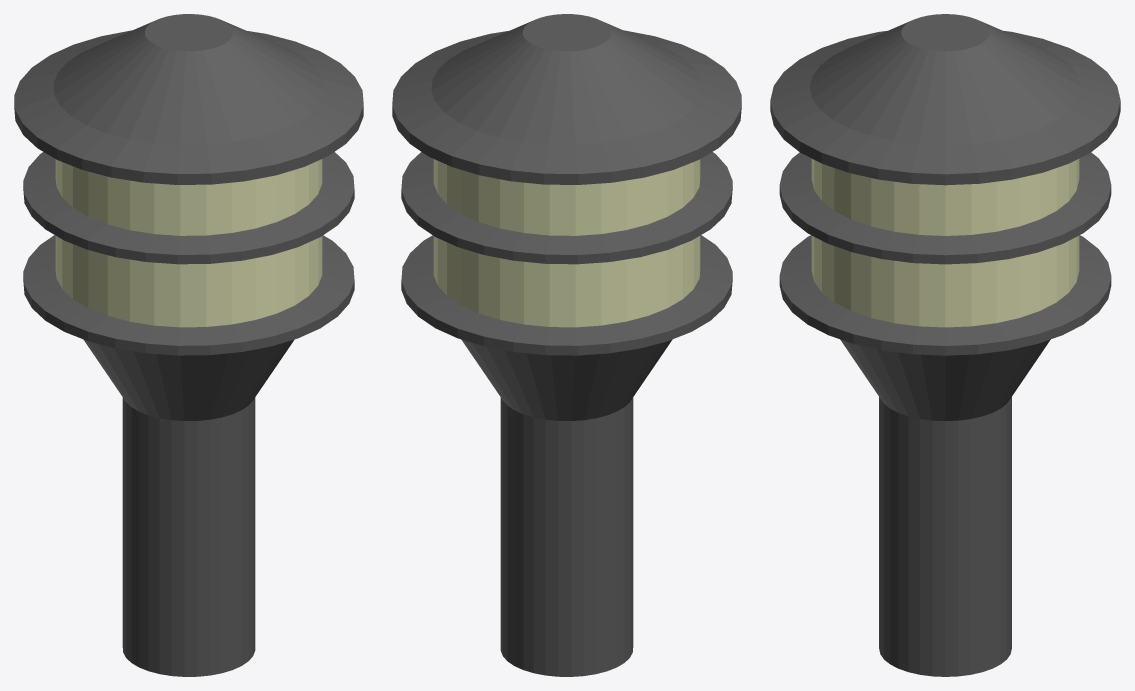
Rendered from Lamp_Small.fbx.
3 views of the same model, side by side, from view 1: azimuth 30°, elevation 25°; view 2: azimuth 150°, elevation 25°; view 3: azimuth 270°, elevation 25° (orthographic).
Visible parts, largest first — view 1: Cylinder; view 2: Cylinder; view 3: Cylinder.
Part boxes in pixels (x1,y1,x2,y2): Cylinder: [14, 14, 363, 676]; Cylinder: [392, 14, 741, 676]; Cylinder: [770, 14, 1120, 676].
Size of the model in its own units: 32.59 by 63.27 by 32.59.
